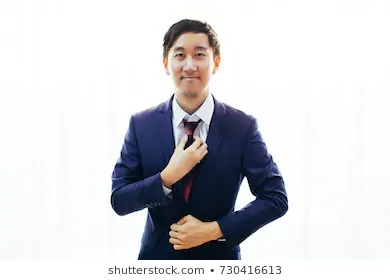F_M_suit jacket: (105, 91, 291, 260)
